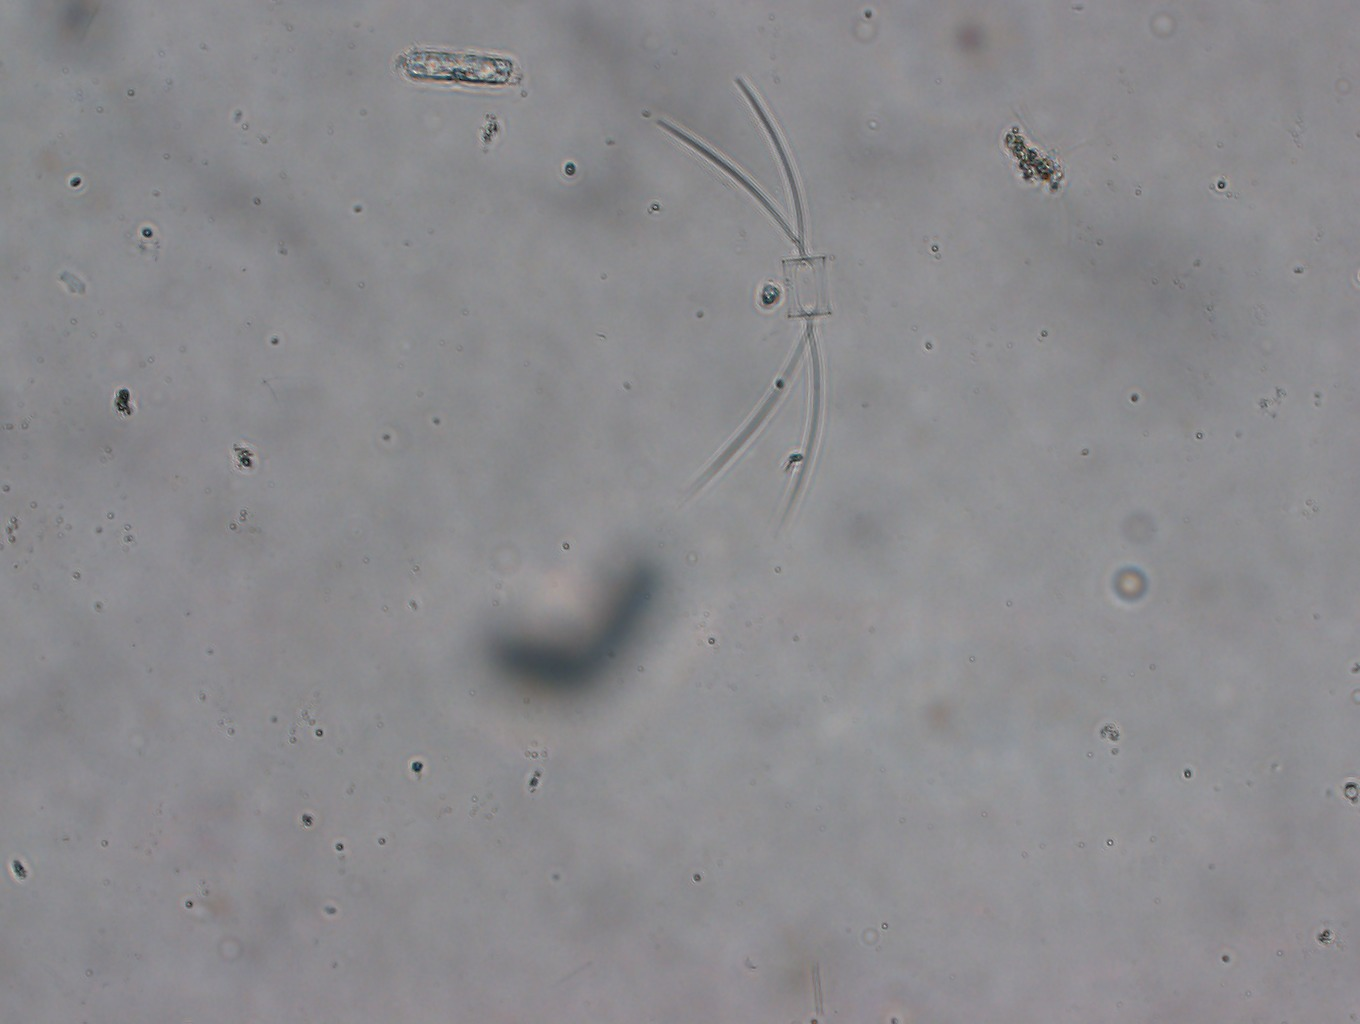chaetoceros: (656, 74, 831, 536)
